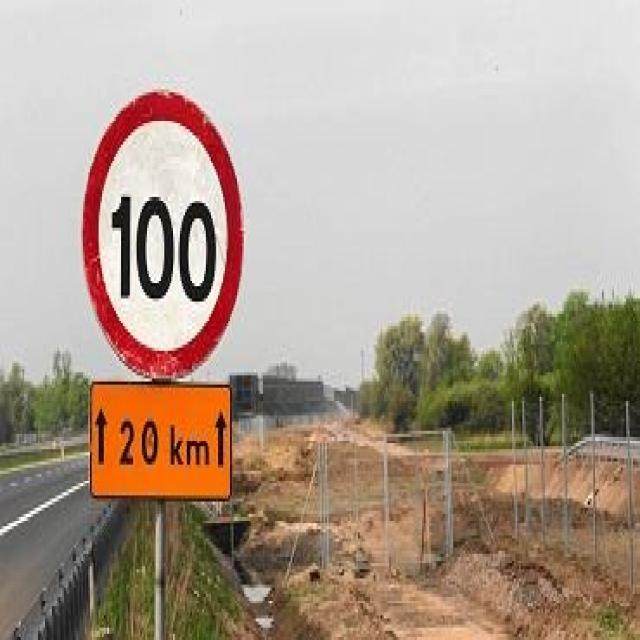Speed Limit -100-: (110, 194, 218, 304)
